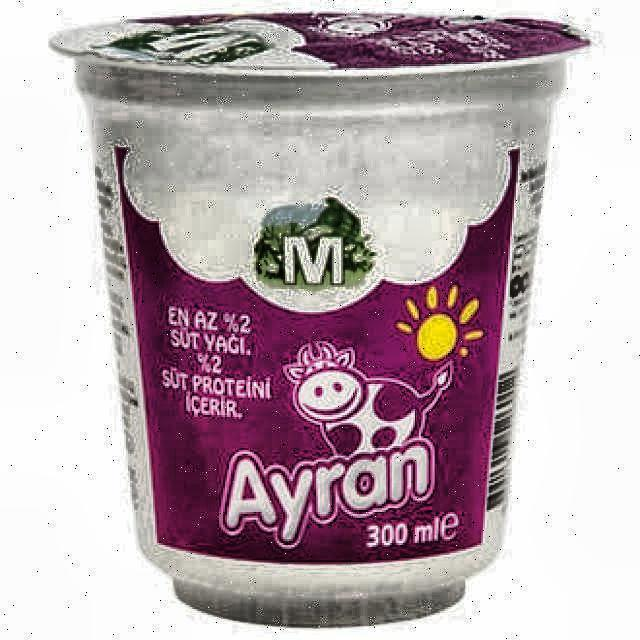plastic: (47, 0, 592, 632)
